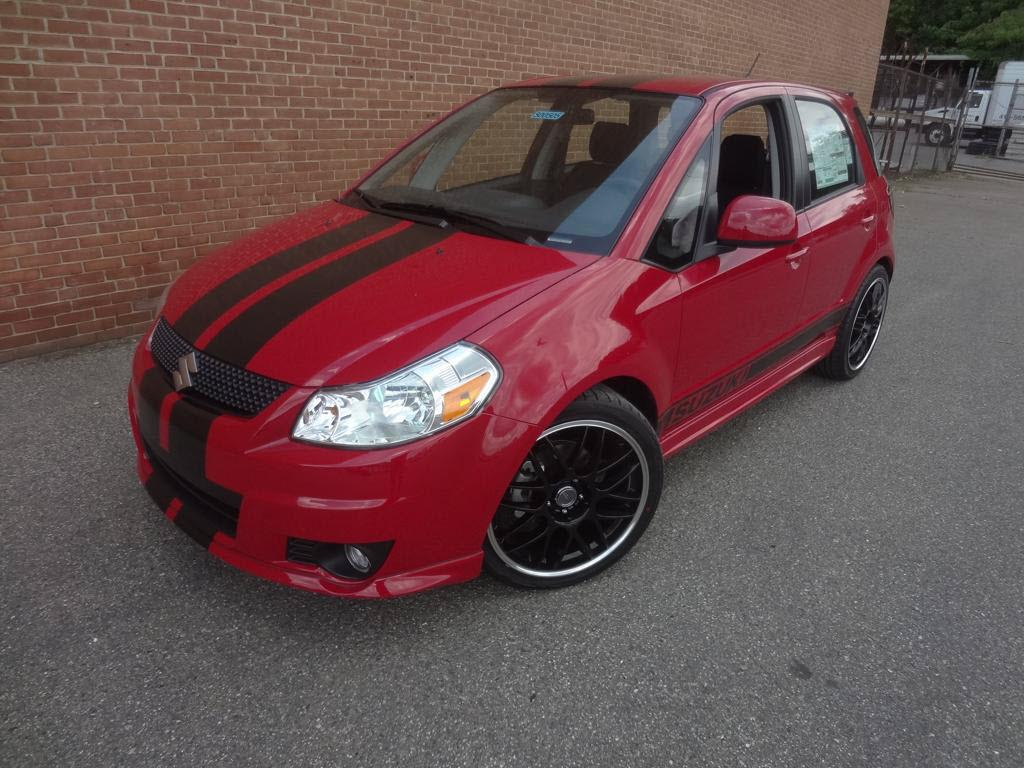Hatchback: (125, 72, 897, 601)
